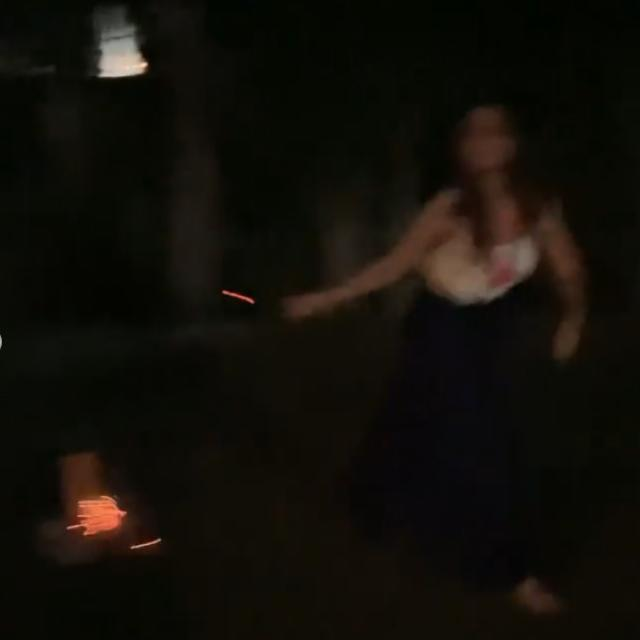fire: (67, 496, 127, 536)
